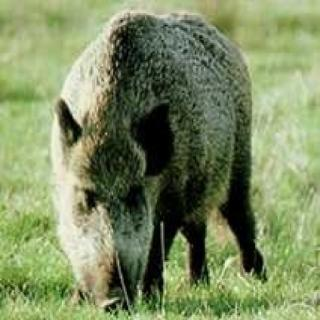Pig: (49, 5, 290, 319)
